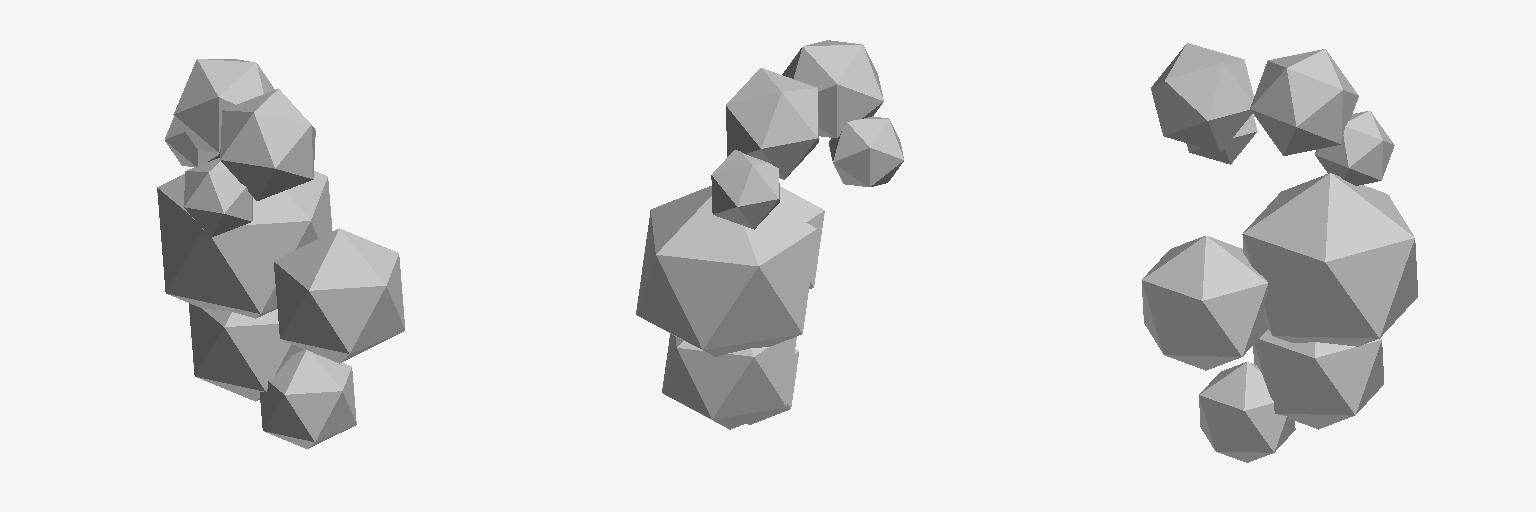
The model's file is memory2.obj.
3 renders of one model, left to right at view 1: azimuth 30°, elevation 25°; view 2: azimuth 150°, elevation 25°; view 3: azimuth 270°, elevation 25°, orthographic.
Parts seen in each view (by area): view 1: Memory2_Icosphere.012; view 2: Memory2_Icosphere.012; view 3: Memory2_Icosphere.012.
Boxes of the visible parts, box(x1,y1,x2,y2) form: Memory2_Icosphere.012: box(157, 59, 404, 448); Memory2_Icosphere.012: box(636, 40, 903, 429); Memory2_Icosphere.012: box(1142, 43, 1417, 462).
Bounding box in the file's own units: 0.8613 × 1.5 × 0.9892.